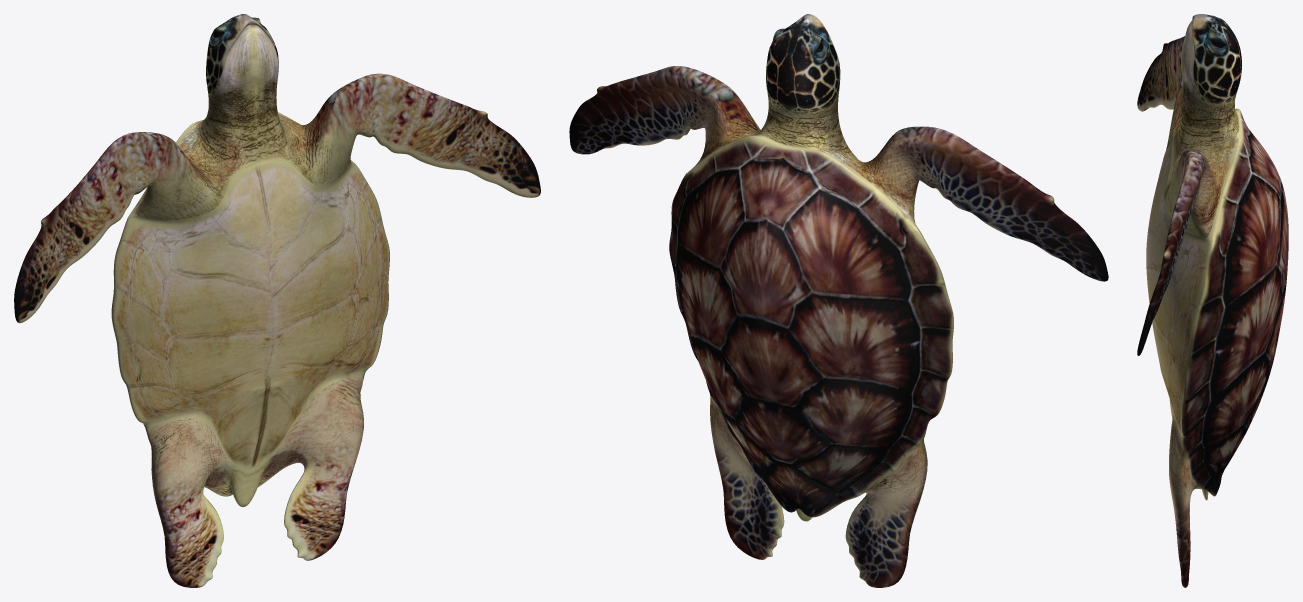
Rendered from turtle.glb.
3 views of the same model, side by side, from view 1: azimuth 30°, elevation 25°; view 2: azimuth 150°, elevation 25°; view 3: azimuth 270°, elevation 25° (orthographic). The views are drawn at different scales.
Parts seen in each view (by area): view 1: 10042_Sea_Turtle_V2_iterations-2.001; view 2: 10042_Sea_Turtle_V2_iterations-2.001; view 3: 10042_Sea_Turtle_V2_iterations-2.001.
Part boxes in pixels (x1,y1,x2,y2): 10042_Sea_Turtle_V2_iterations-2.001: (14, 14, 540, 587); 10042_Sea_Turtle_V2_iterations-2.001: (569, 14, 1108, 587); 10042_Sea_Turtle_V2_iterations-2.001: (1137, 14, 1288, 587).
Bounding box in the file's own units: 102 × 102 × 25.79.
Materials: 1 (1 with a texture image).
